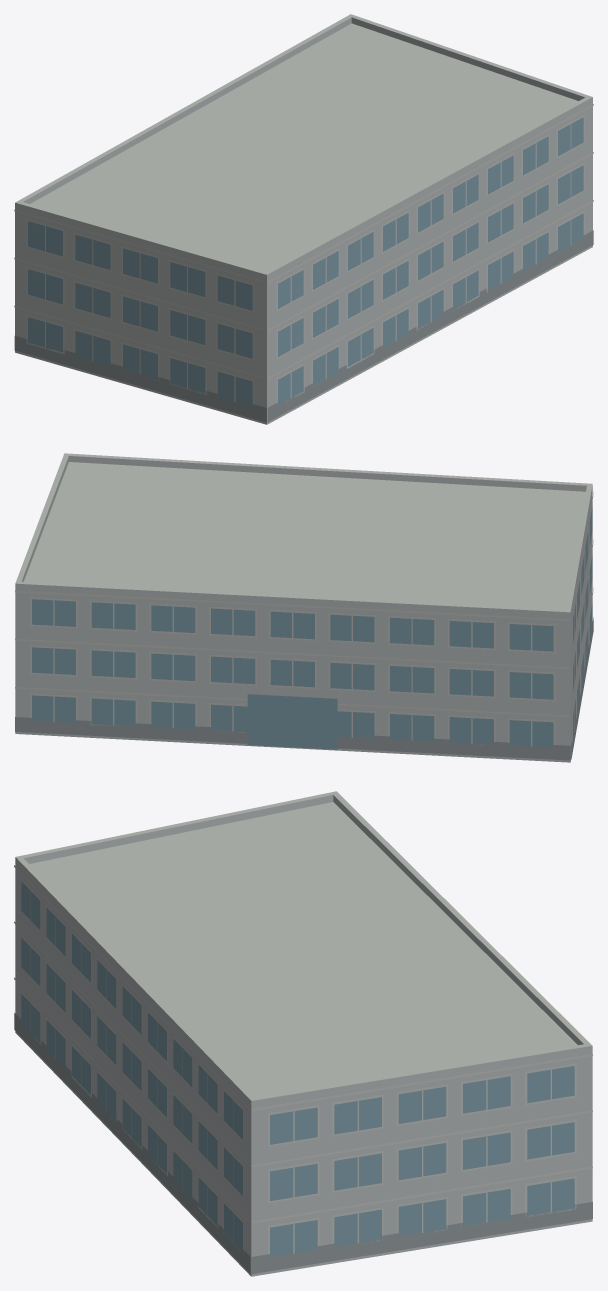
The model's file is public-14627c4f-7ed0-49c4-9e96-d27b664606c4.glb.
3 views of the same model, one above another, from view 1: azimuth 30°, elevation 25°; view 2: azimuth 150°, elevation 25°; view 3: azimuth 270°, elevation 25° (orthographic). The views are drawn at different scales.
Visible parts, largest first — view 1: public-14627c4f-7ed0-49c4-9e96-d27b664606c4; view 2: public-14627c4f-7ed0-49c4-9e96-d27b664606c4; view 3: public-14627c4f-7ed0-49c4-9e96-d27b664606c4.
Boxes of the visible parts, box(x1,y1,x2,y2) form: public-14627c4f-7ed0-49c4-9e96-d27b664606c4: box(14, 14, 593, 424); public-14627c4f-7ed0-49c4-9e96-d27b664606c4: box(15, 453, 593, 762); public-14627c4f-7ed0-49c4-9e96-d27b664606c4: box(14, 791, 592, 1276).
Size of the model in its own units: 34.7 by 9.15 by 27.36.
